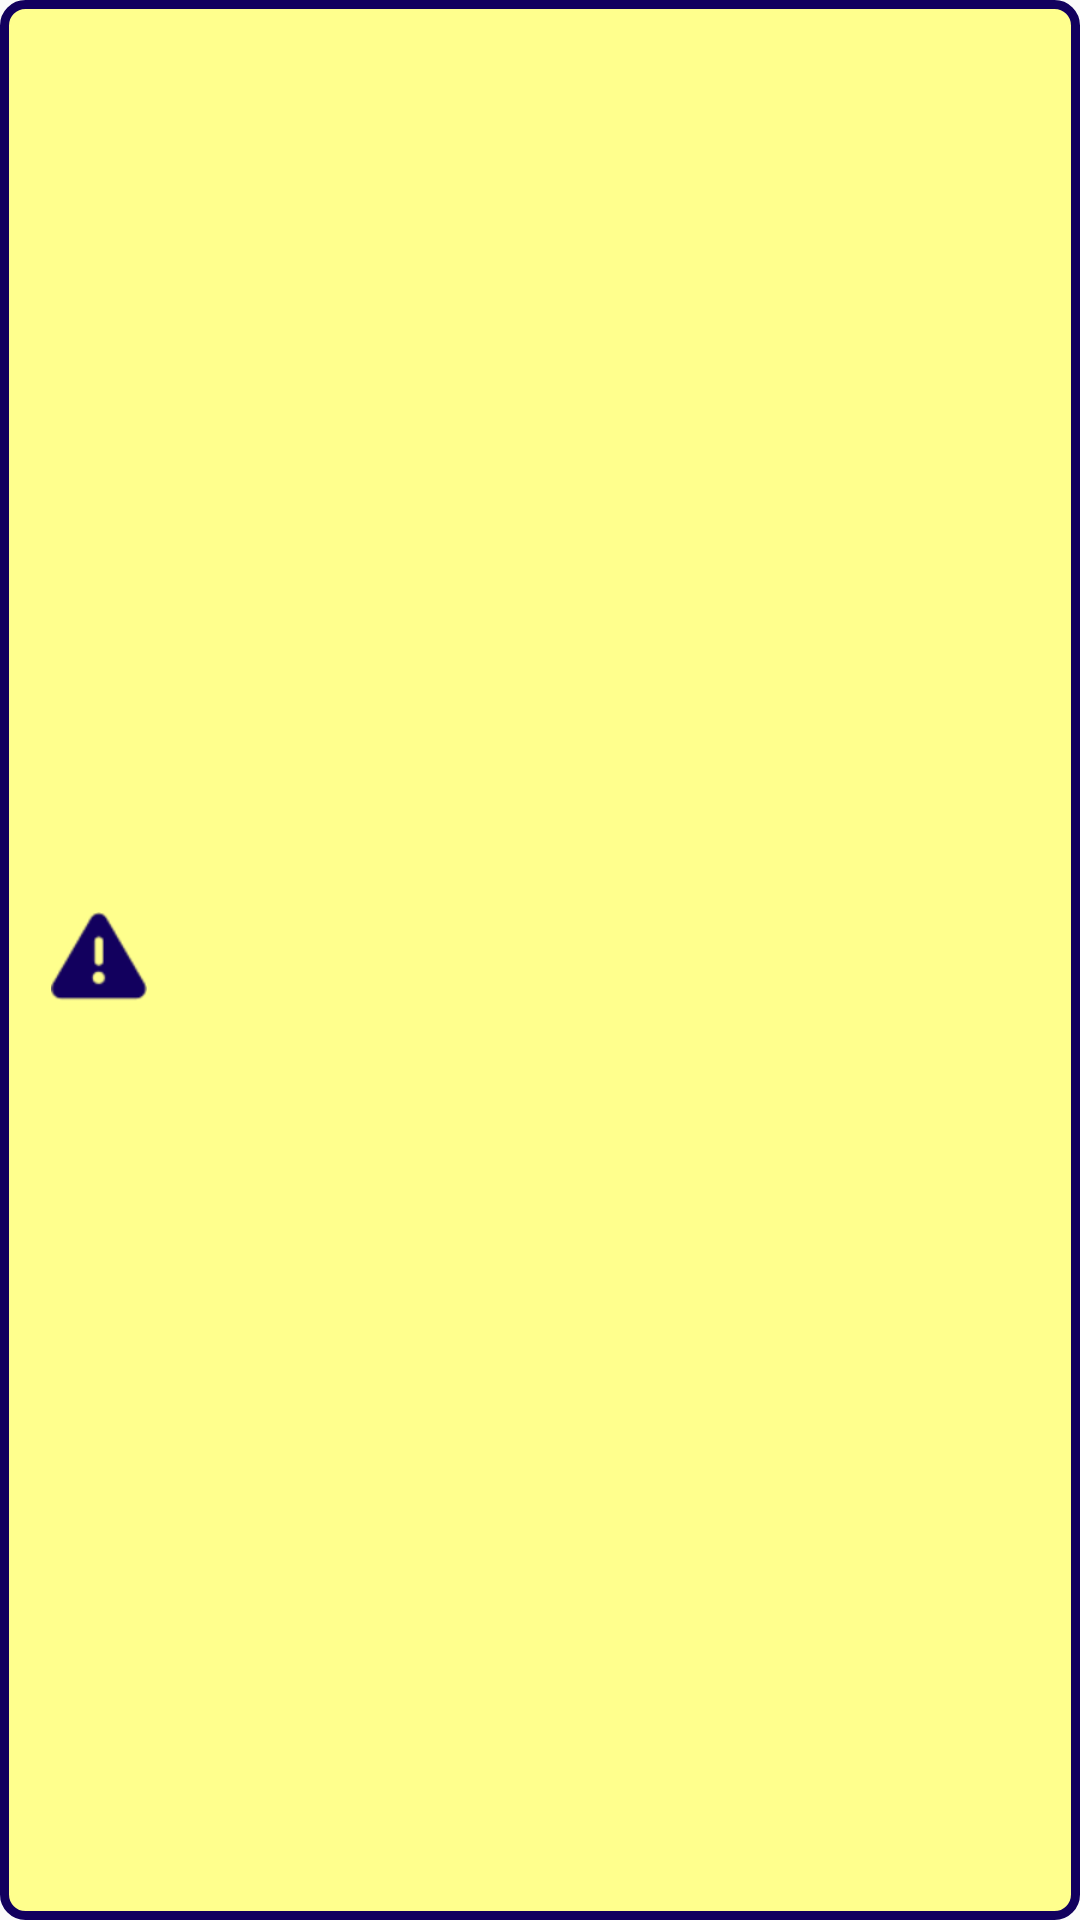

Icon bounding boxes for this 1080 x 1920 phone screenshot, format (x1, y1, x2, y2):
Alert icon: (51, 912, 147, 1000)
